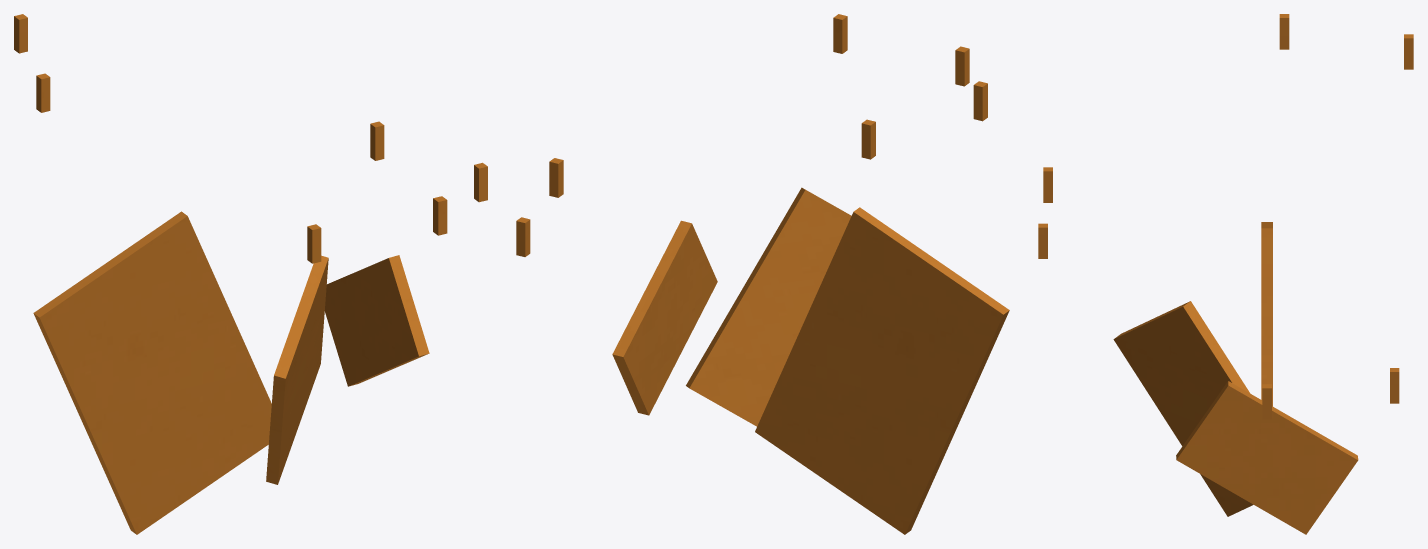
The model's file is case_shards_01.glb.
3 views of the same model, side by side, from view 1: azimuth 30°, elevation 25°; view 2: azimuth 150°, elevation 25°; view 3: azimuth 270°, elevation 25° (orthographic). The views are drawn at different scales.
Visible parts, largest first — view 1: case_shards_01; view 2: case_shards_01; view 3: case_shards_01.
Part boxes in pixels (x1,y1,x2,y2): case_shards_01: [14, 14, 487, 534]; case_shards_01: [516, 14, 1009, 534]; case_shards_01: [1038, 14, 1413, 534].
Size of the model in its own units: 2.51 by 2.51 by 1.95.
Materials: 1 (1 with a texture image).
